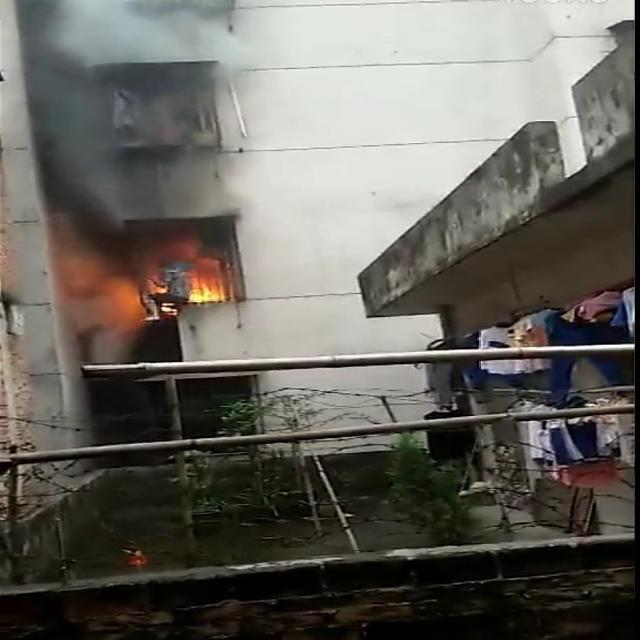Fire: (172, 274, 246, 316)
Smoke: (0, 0, 272, 245)
